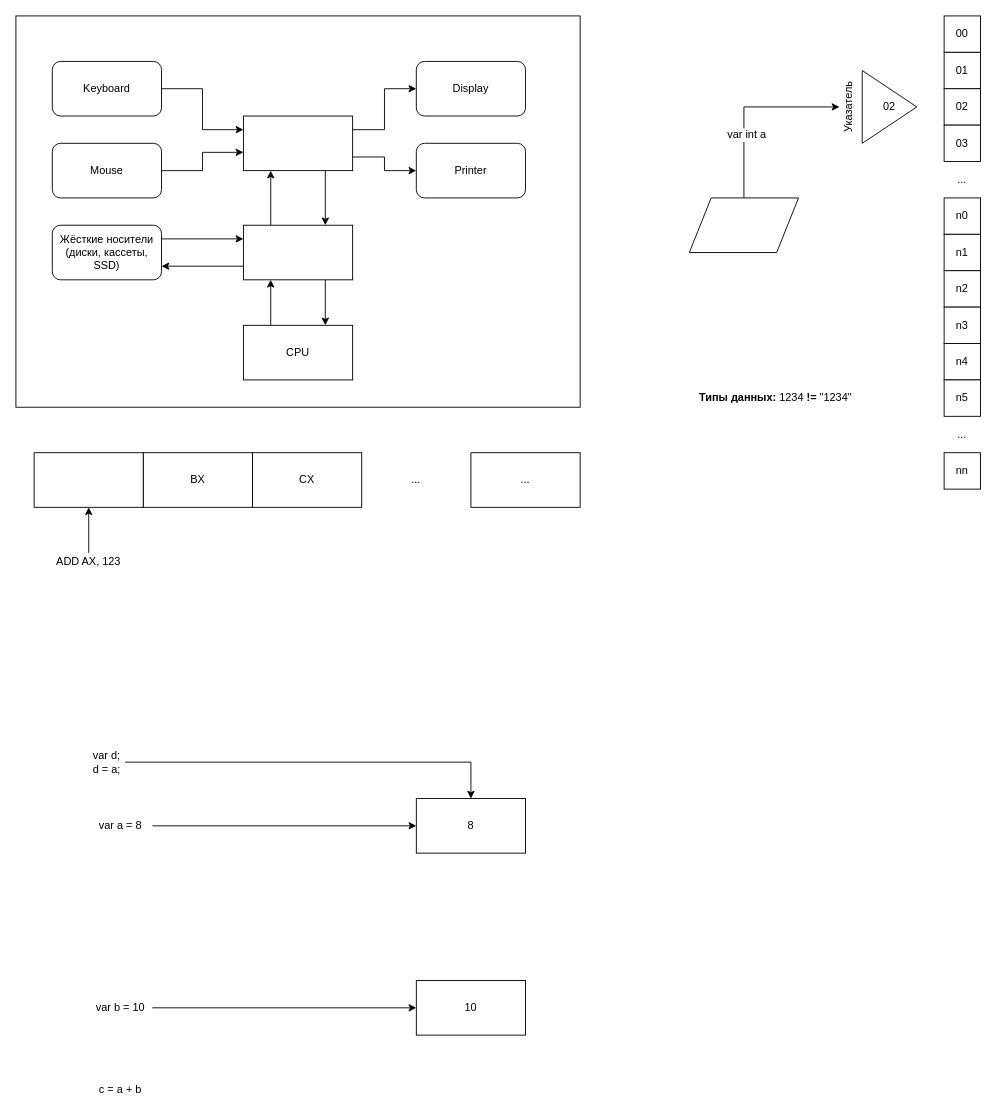
Image size: 996x1115. Some labels were removed from this diagram. Here are the shapes that lost their labels. From the top down, the box of each, then its label:
(243, 115, 353, 171): I/O
(688, 197, 799, 253): Переменная
(243, 224, 353, 280): Memory (RAM)
(33, 452, 143, 507): AX
